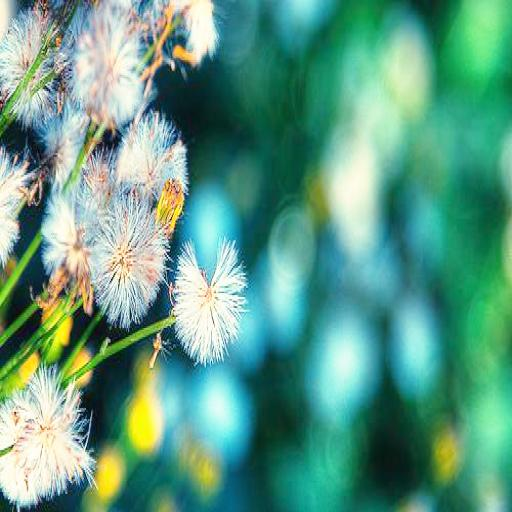dandelion: (86, 206, 164, 321), (176, 242, 247, 359), (116, 117, 186, 224), (22, 377, 91, 485), (78, 14, 141, 126), (1, 13, 60, 124)
